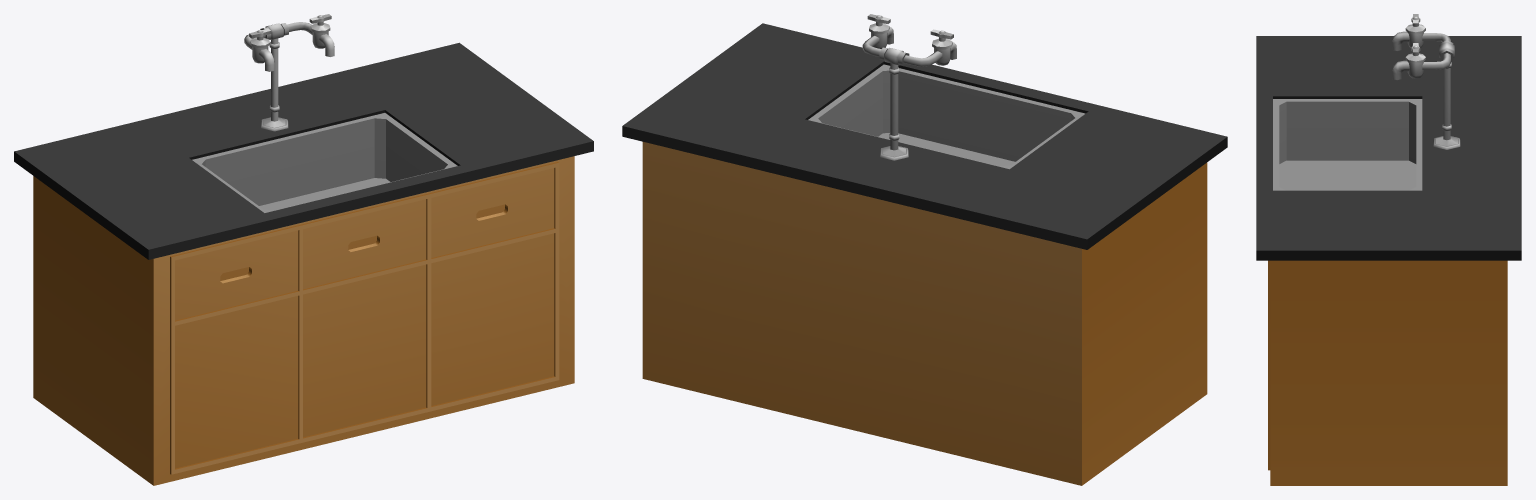
Rendered from CR_sci_Table_002.FBX.
3 renders of one model, left to right at view 1: azimuth 30°, elevation 25°; view 2: azimuth 150°, elevation 25°; view 3: azimuth 270°, elevation 25°, orthographic. The views are drawn at different scales.
Parts seen in each view (by area): view 1: CR_sci_Table_002; view 2: CR_sci_Table_002; view 3: CR_sci_Table_002.
Boxes of the visible parts, x1,y1,x2,y2 form: CR_sci_Table_002: (14, 14, 593, 485); CR_sci_Table_002: (622, 14, 1227, 485); CR_sci_Table_002: (1256, 14, 1521, 485).
Bounding box in the file's own units: 114 × 87.63 × 59.74.
